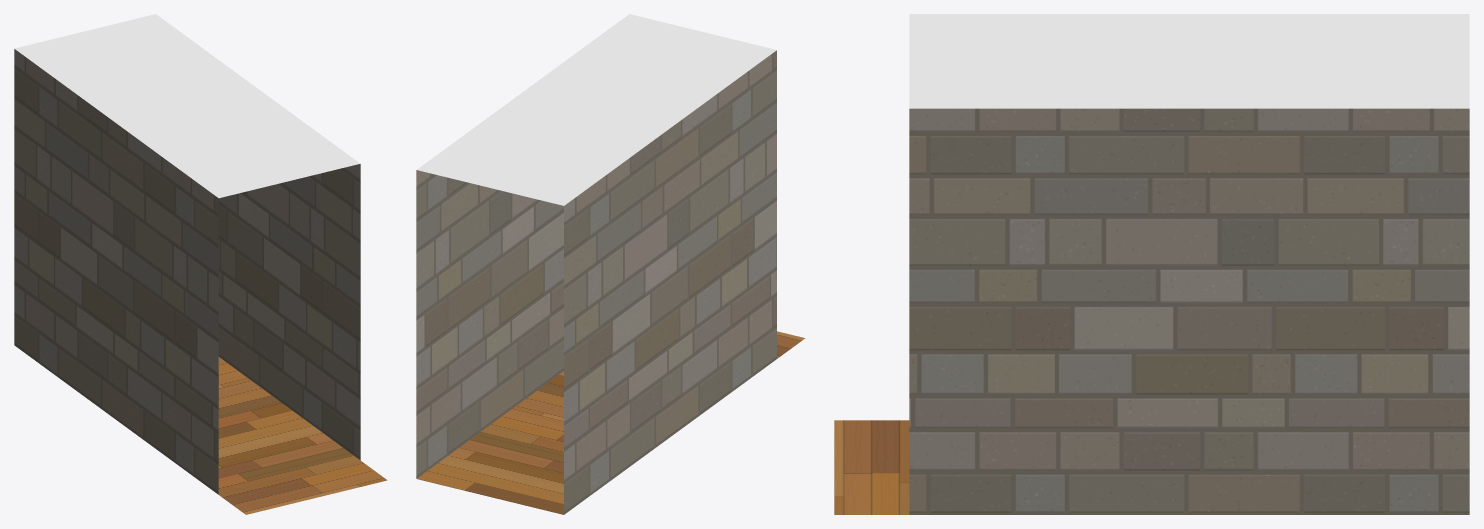
The model's file is pasillo2.glb.
3 views of the same model, side by side, from view 1: azimuth 30°, elevation 25°; view 2: azimuth 150°, elevation 25°; view 3: azimuth 270°, elevation 25° (orthographic). The views are drawn at different scales.
Parts seen in each view (by area): view 1: pasillo2-2, pasillo2-1, pasillo2-0; view 2: pasillo2-2, pasillo2-1, pasillo2-0; view 3: pasillo2-2, pasillo2-1, pasillo2-0.
Part boxes in pixels (left/top/right/bottom): pasillo2-2: left=14, top=49, right=360, bottom=494; pasillo2-1: left=14, top=14, right=360, bottom=198; pasillo2-0: left=218, top=357, right=387, bottom=514; pasillo2-2: left=416, top=50, right=776, bottom=514; pasillo2-1: left=417, top=14, right=776, bottom=205; pasillo2-0: left=417, top=331, right=805, bottom=514; pasillo2-2: left=909, top=108, right=1469, bottom=514; pasillo2-1: left=909, top=14, right=1469, bottom=108; pasillo2-0: left=834, top=420, right=909, bottom=514.
Size of the model in its own units: 1.2 by 2.4 by 3.4.
Materials: 3 (2 with a texture image).
